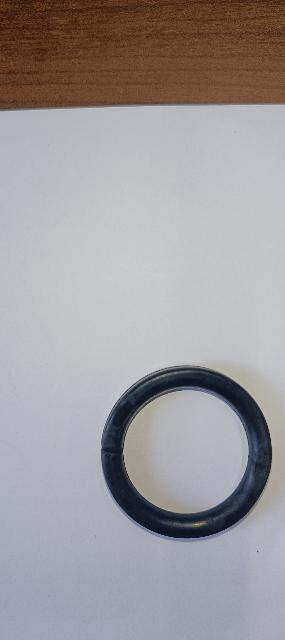4: (248, 441, 272, 493)
scratch: (103, 439, 124, 461)
